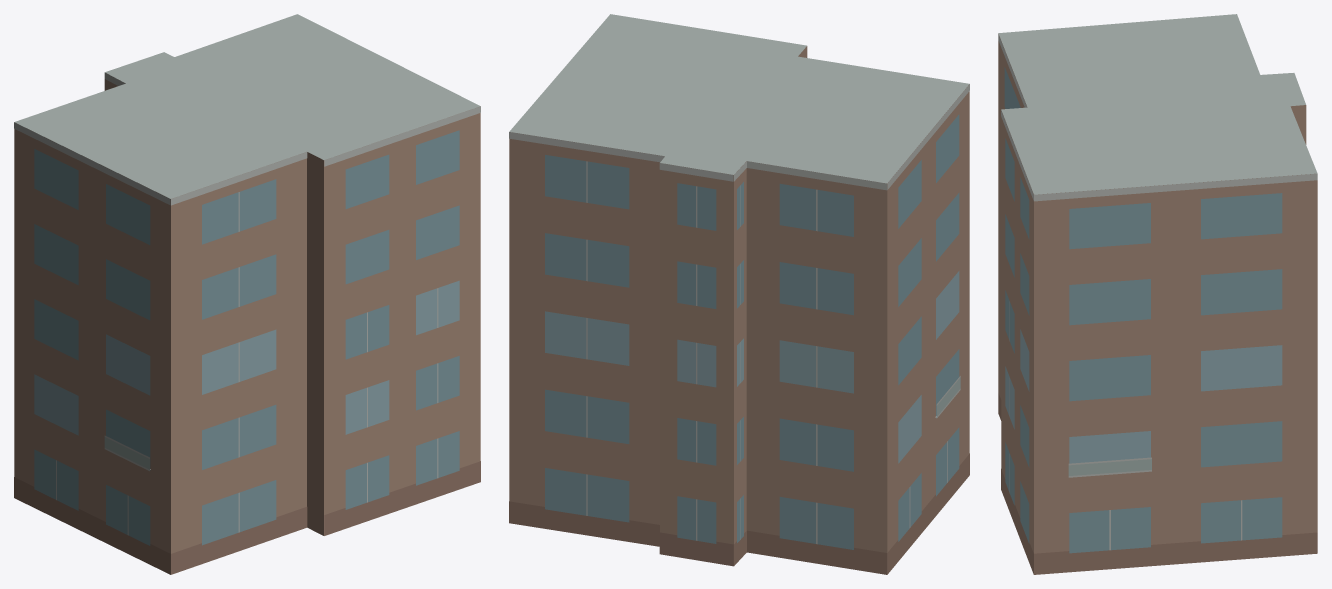
The model's file is survey-upis-32701268.glb.
3 renders of one model, left to right at view 1: azimuth 30°, elevation 25°; view 2: azimuth 150°, elevation 25°; view 3: azimuth 270°, elevation 25°, orthographic. The views are drawn at different scales.
Parts seen in each view (by area): view 1: survey-upis-32701268.tmp; view 2: survey-upis-32701268.tmp; view 3: survey-upis-32701268.tmp.
Part boxes in pixels (left/top/right/bottom): survey-upis-32701268.tmp: left=14, top=14, right=480, bottom=574; survey-upis-32701268.tmp: left=509, top=14, right=969, bottom=574; survey-upis-32701268.tmp: left=998, top=14, right=1317, bottom=574.
Size of the model in its own units: 14.19 by 13.9 by 10.59.
